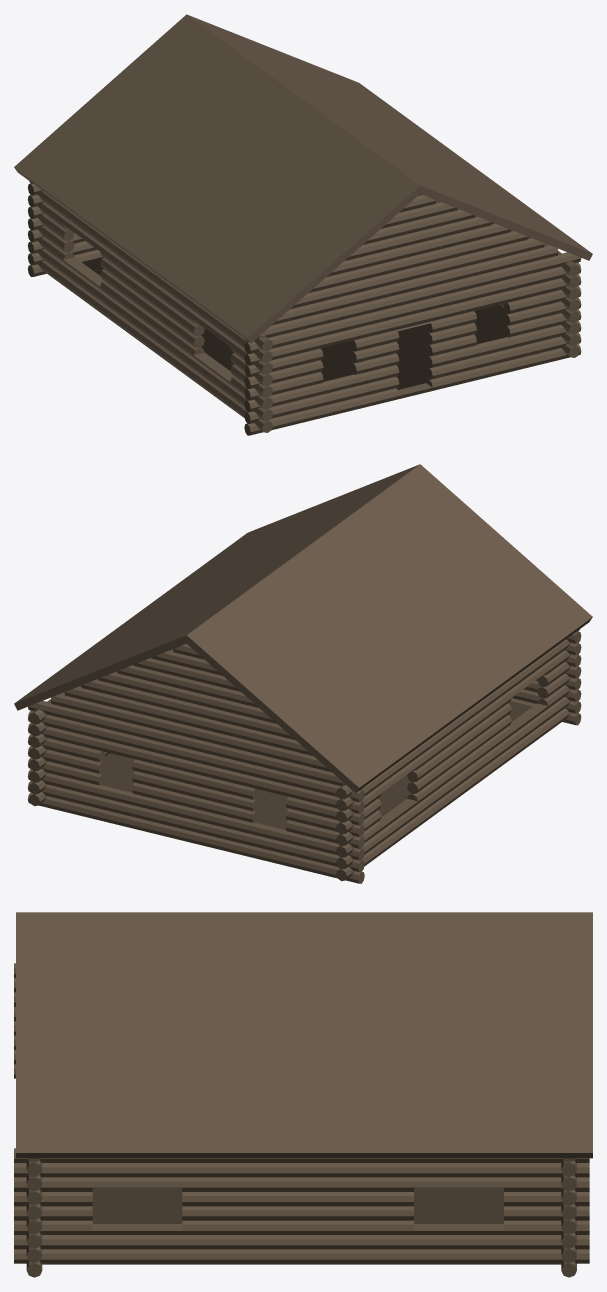
Rendered from SmallCabin.fbx.
3 views of the same model, one above another, from view 1: azimuth 30°, elevation 25°; view 2: azimuth 150°, elevation 25°; view 3: azimuth 270°, elevation 25° (orthographic). The views are drawn at different scales.
Parts seen in each view (by area): view 1: polySurface3; view 2: polySurface3; view 3: polySurface3.
Boxes of the visible parts, x1,y1,x2,y2 form: polySurface3: (14,14,592,435); polySurface3: (14,464,592,883); polySurface3: (14,912,592,1277).
Bounding box in the file's own units: 1034 × 616 × 1217.
